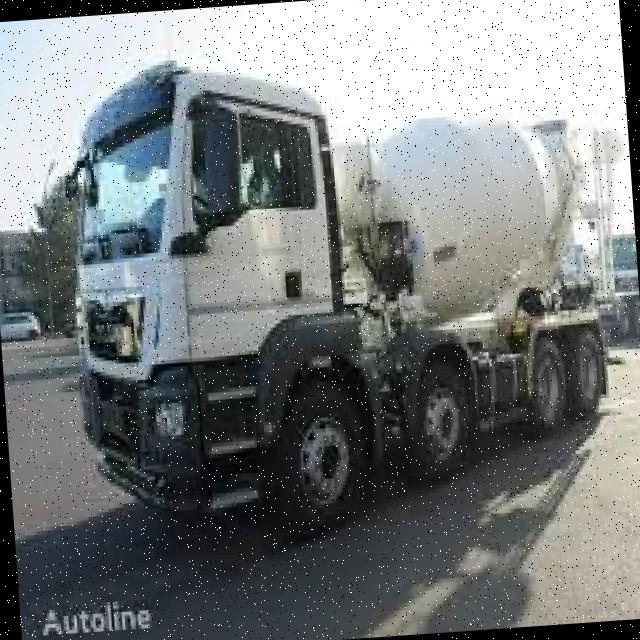Mixer Truck: (56, 26, 640, 559)
